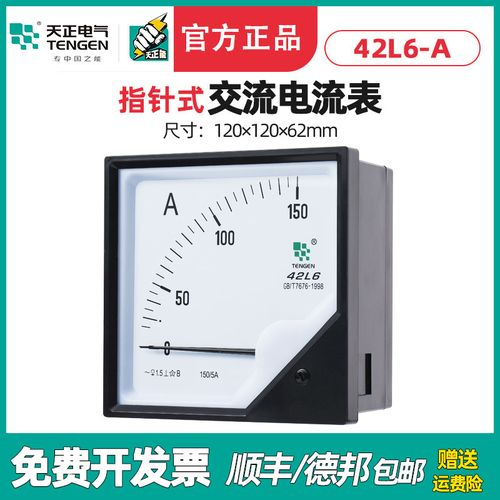pointer: (117, 158, 338, 408)
